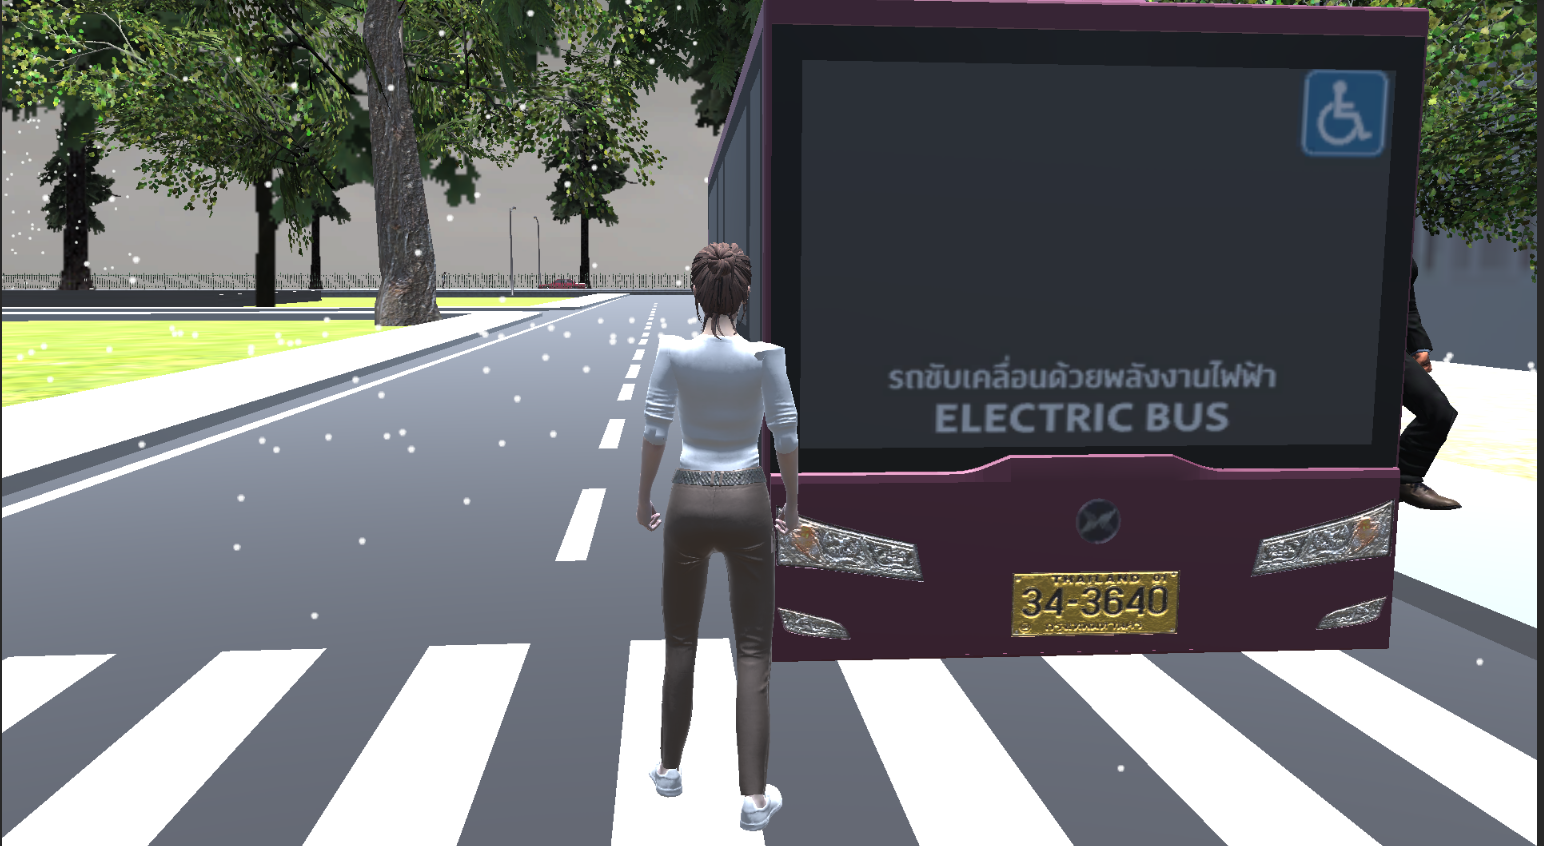pedestrian: (647, 234, 802, 835)
